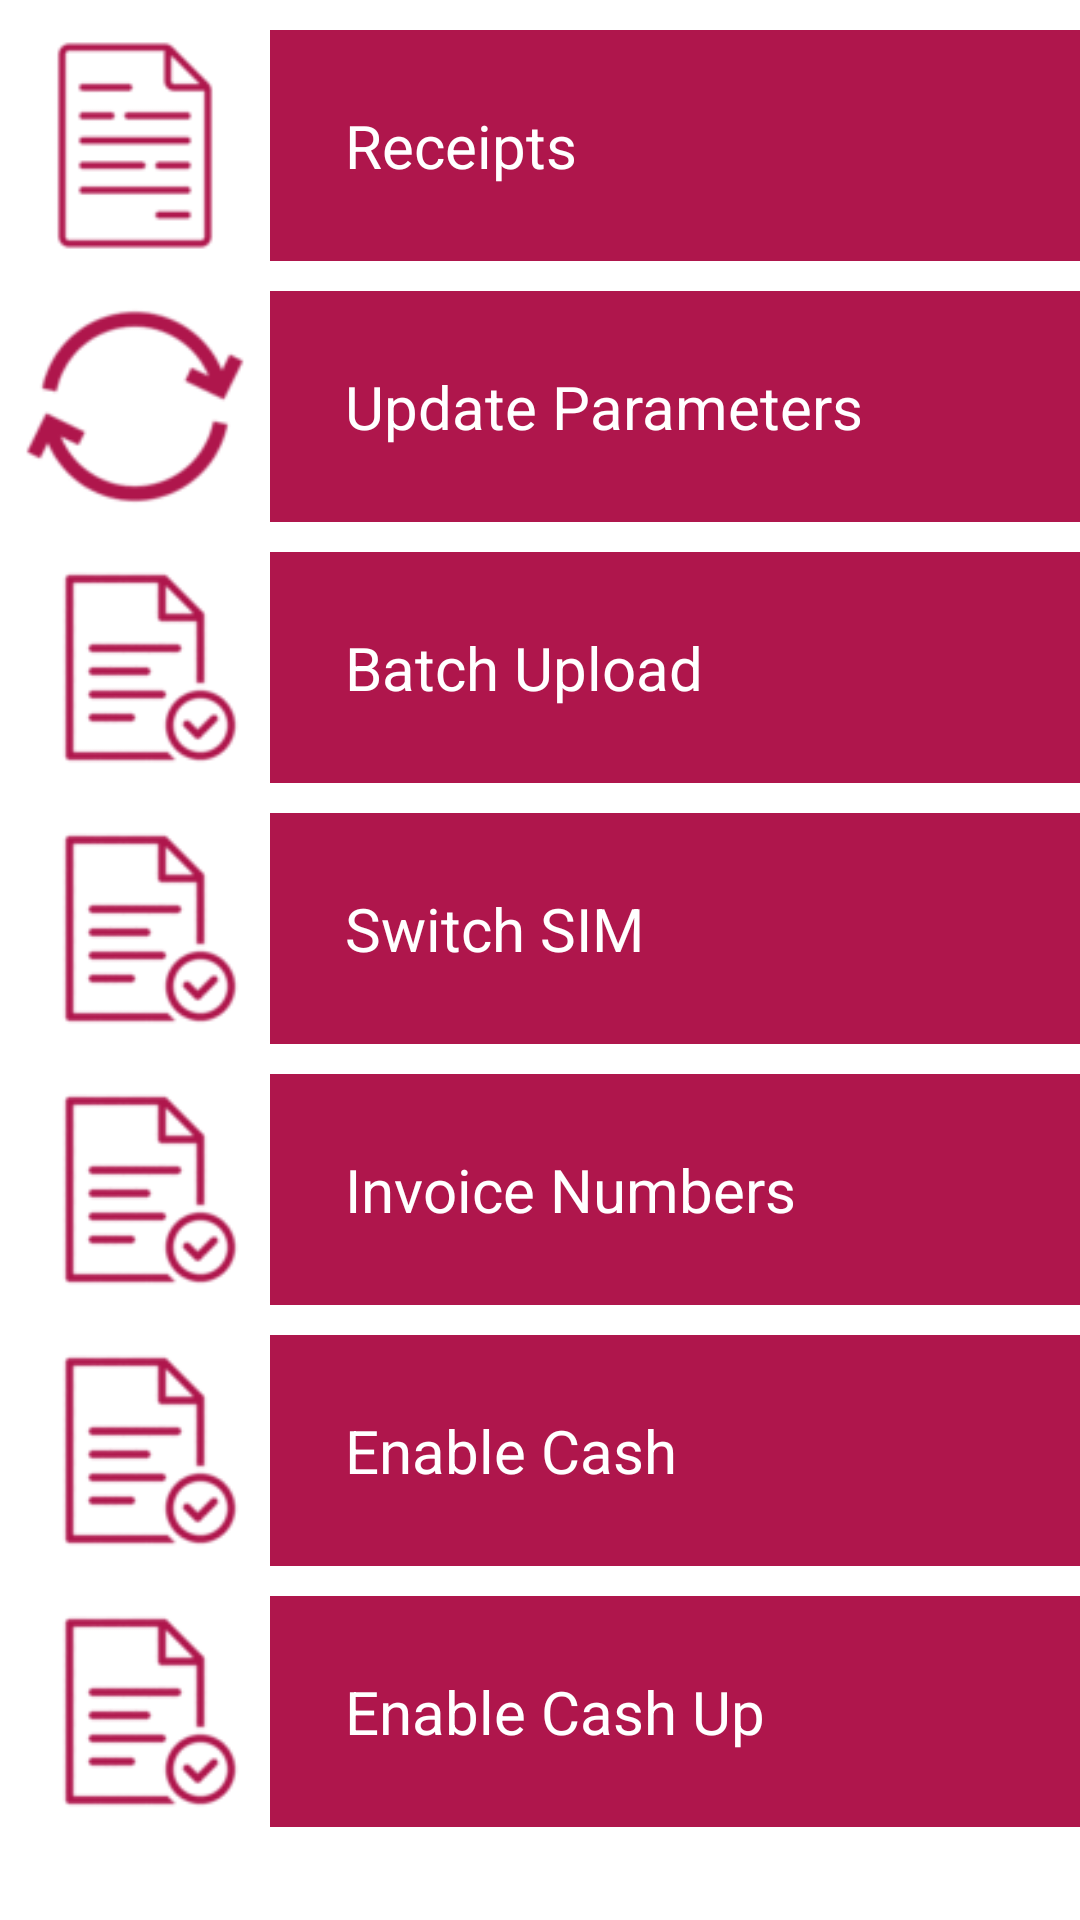

Where icons sit on this 1080px×1920px app screen, as (x1, y1, x2, y2):
circle arrows: (26, 311, 244, 502)
file: (57, 42, 213, 249)
ticked: (64, 574, 237, 761), (64, 835, 237, 1022), (64, 1096, 237, 1283), (64, 1356, 237, 1545), (64, 1618, 237, 1805)
